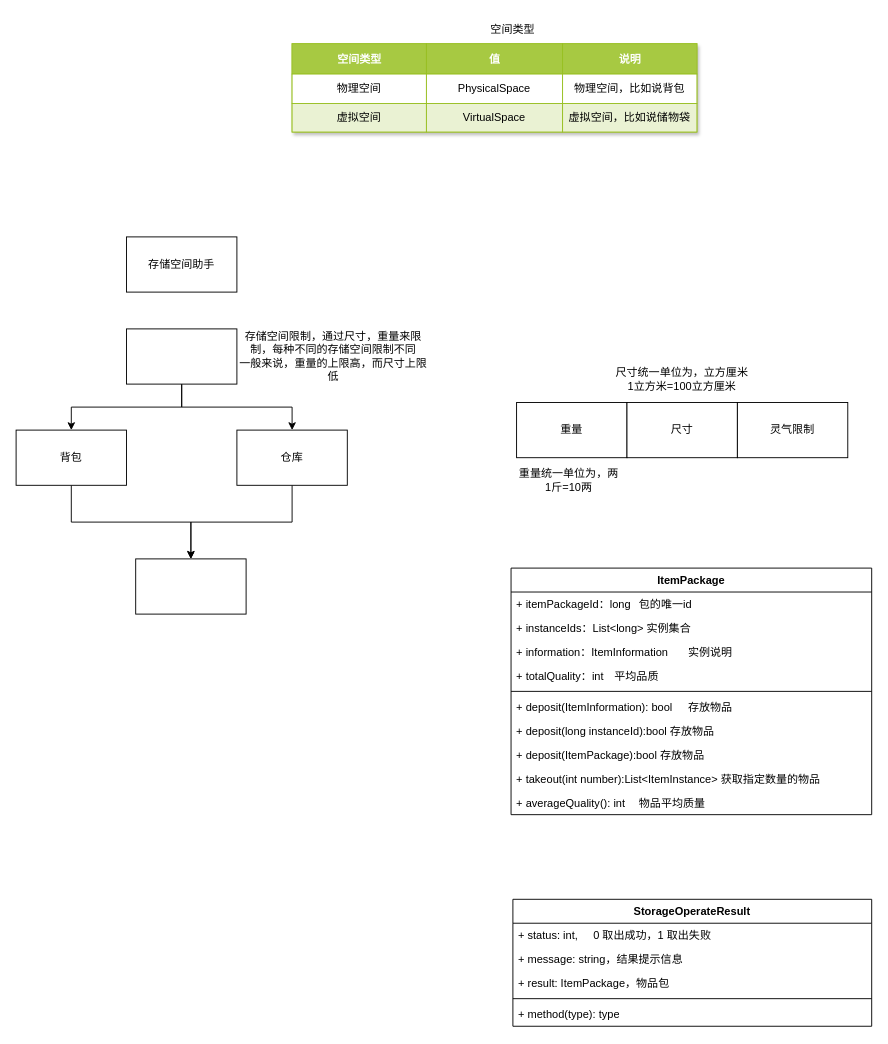
Some shapes in this 888 by 1044 pixel diagram are drawn without their labels. Each missing label, with the centre of its shape:
"存储空间" belongs at [181,356].
"实例" belongs at [190,586].
